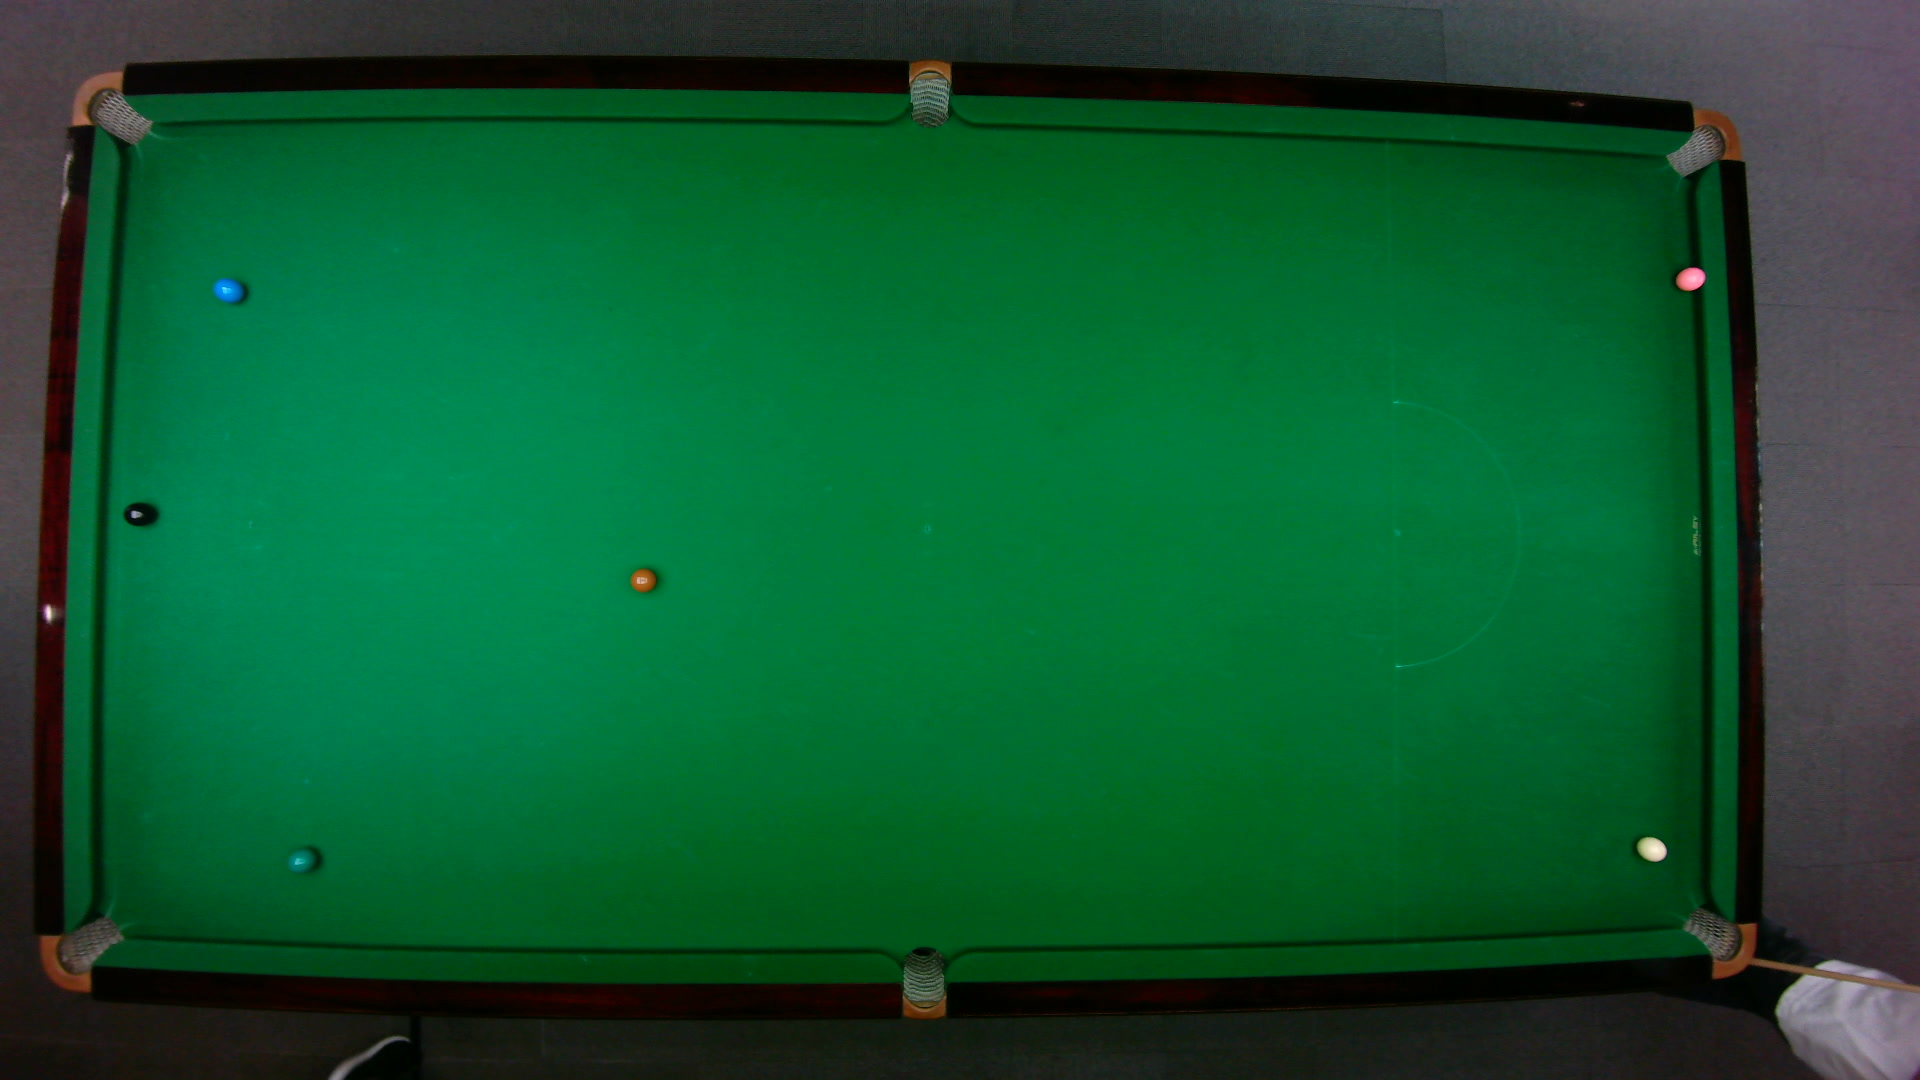bag: (37, 913, 125, 992), (69, 69, 152, 145), (1679, 903, 1756, 977), (1663, 107, 1741, 177), (901, 944, 944, 1021), (909, 57, 949, 128)
black: (121, 501, 154, 526)
blue: (211, 276, 244, 305)
brown: (628, 566, 657, 593)
green: (286, 845, 318, 873)
pink: (1673, 262, 1706, 291)
white: (1633, 833, 1667, 860)
zone: (1391, 400, 1519, 669)
